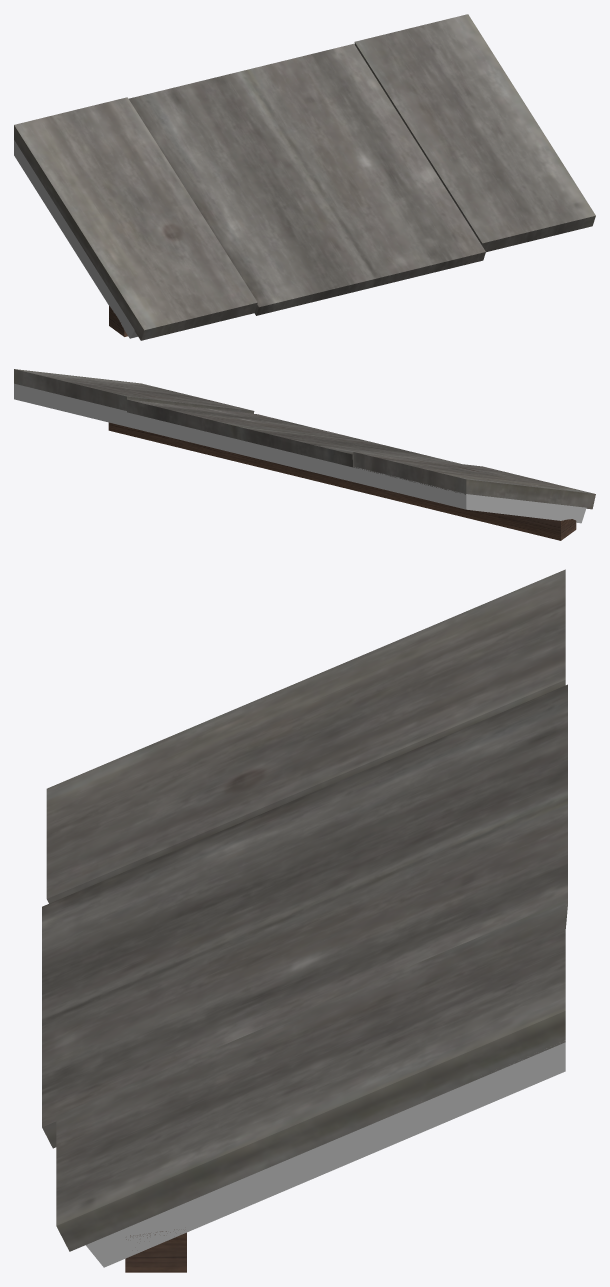
The model's file is itabuki_1x0t_a1middle.fbx.
3 views of the same model, one above another, from view 1: azimuth 30°, elevation 25°; view 2: azimuth 150°, elevation 25°; view 3: azimuth 270°, elevation 25° (orthographic). The views are drawn at different scales.
Visible parts, largest first — view 1: itabuki_1x0t_a1middle; view 2: itabuki_1x0t_a1middle; view 3: itabuki_1x0t_a1middle.
Boxes of the visible parts, x1,y1,x2,y2 form: itabuki_1x0t_a1middle: (14, 14, 595, 340); itabuki_1x0t_a1middle: (14, 369, 595, 540); itabuki_1x0t_a1middle: (42, 569, 567, 1272).
Bounding box in the file's own units: 220 × 60.83 × 111.
